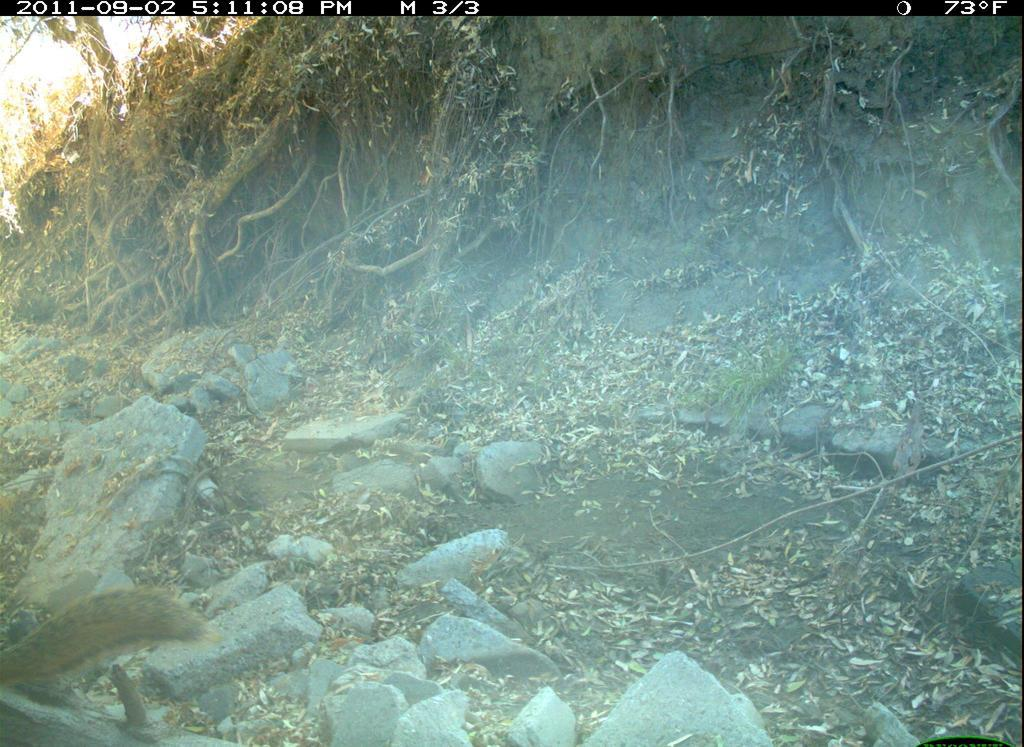squirrel: (3, 580, 231, 692)
